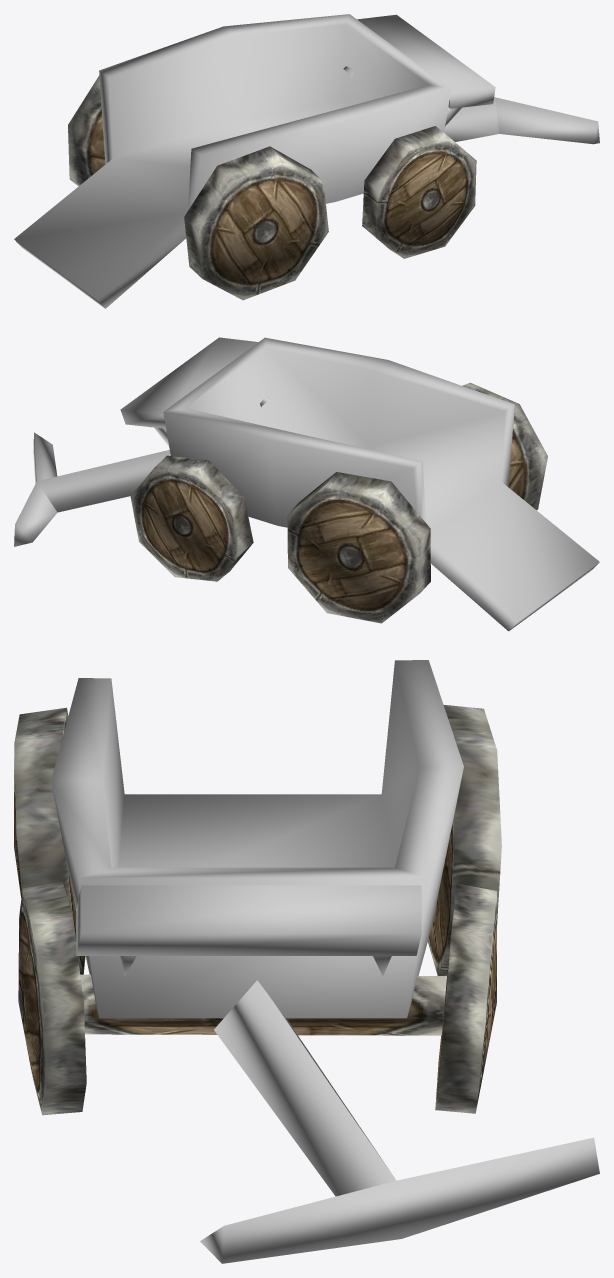
File: westfallwagon01.obj
3 views of the same model, one above another, from view 1: azimuth 30°, elevation 25°; view 2: azimuth 150°, elevation 25°; view 3: azimuth 270°, elevation 25° (orthographic). The views are drawn at different scales.
Visible parts, largest first — view 1: Geoset0, Geoset1; view 2: Geoset0, Geoset1; view 3: Geoset0, Geoset1.
Boxes of the visible parts, x1,y1,x2,y2 form: Geoset0: [14, 14, 599, 308]; Geoset1: [68, 75, 476, 300]; Geoset0: [14, 337, 599, 631]; Geoset1: [130, 382, 547, 623]; Geoset0: [51, 660, 599, 1263]; Geoset1: [14, 705, 501, 1115].
Size of the model in its own units: 9.12 by 2.57 by 5.03.
